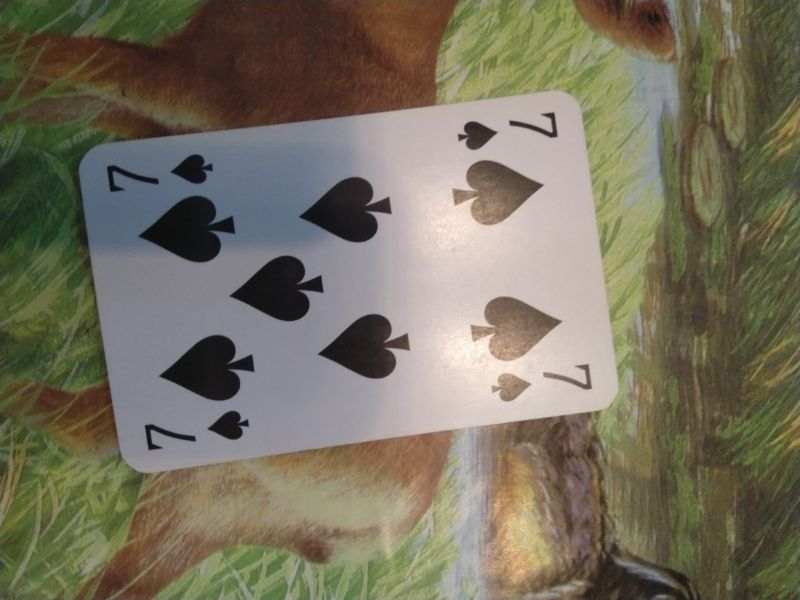7s: (104, 147, 216, 195), (141, 406, 253, 453), (455, 106, 564, 154), (488, 359, 598, 405)
